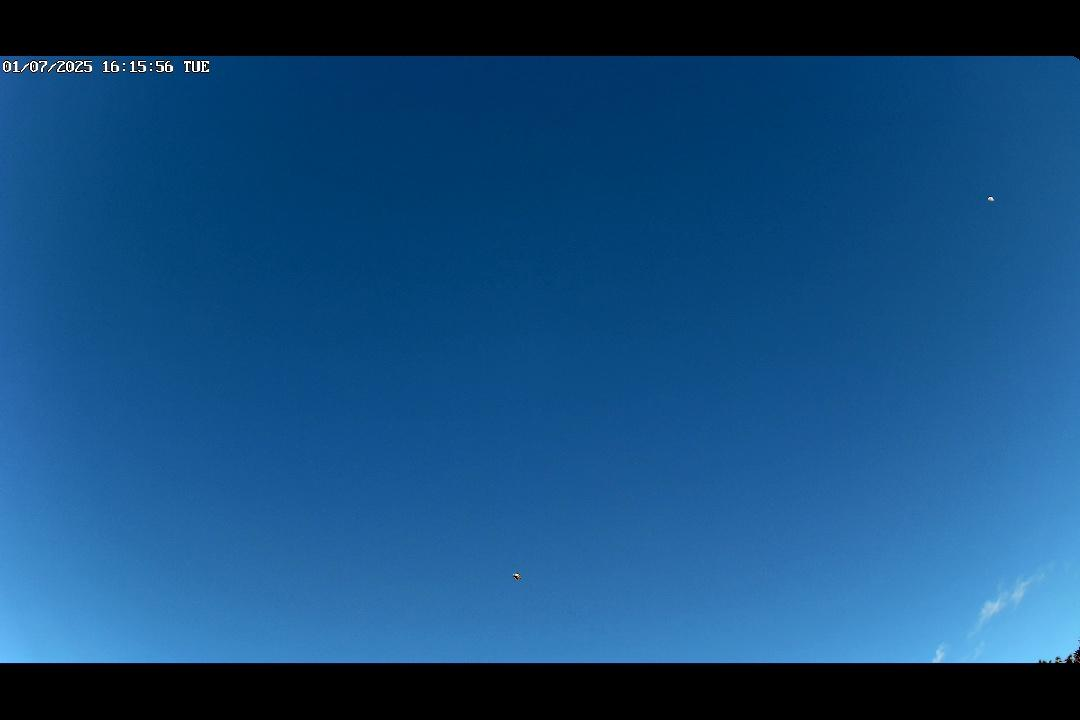WildLife: (508, 568, 528, 584)
